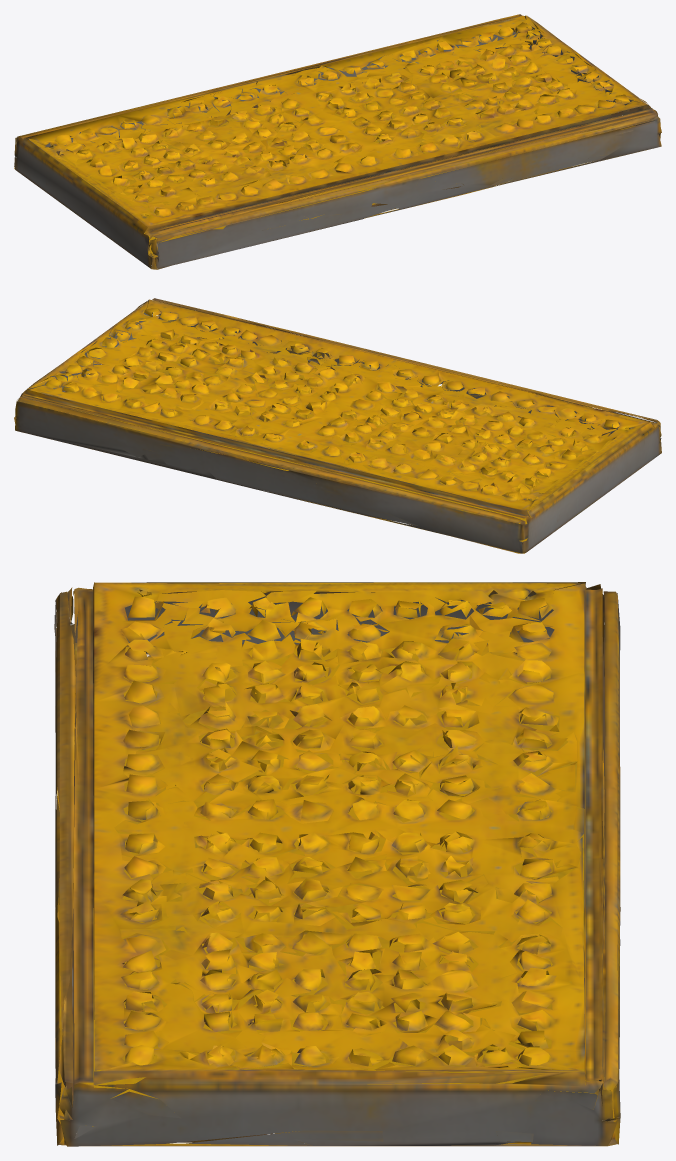
Rendered from safety.glb.
3 renders of one model, top to bottom at view 1: azimuth 30°, elevation 25°; view 2: azimuth 150°, elevation 25°; view 3: azimuth 270°, elevation 25°, orthographic. The views are drawn at different scales.
Parts seen in each view (by area): view 1: node_0; view 2: node_0; view 3: node_0.
Boxes of the visible parts, x1,y1,x2,y2 form: node_0: [14, 14, 661, 269]; node_0: [14, 298, 661, 553]; node_0: [54, 582, 620, 1146].
Bounding box in the file's own units: 1.09 × 0.0841 × 0.5237.
Materials: 1 (1 with a texture image).
